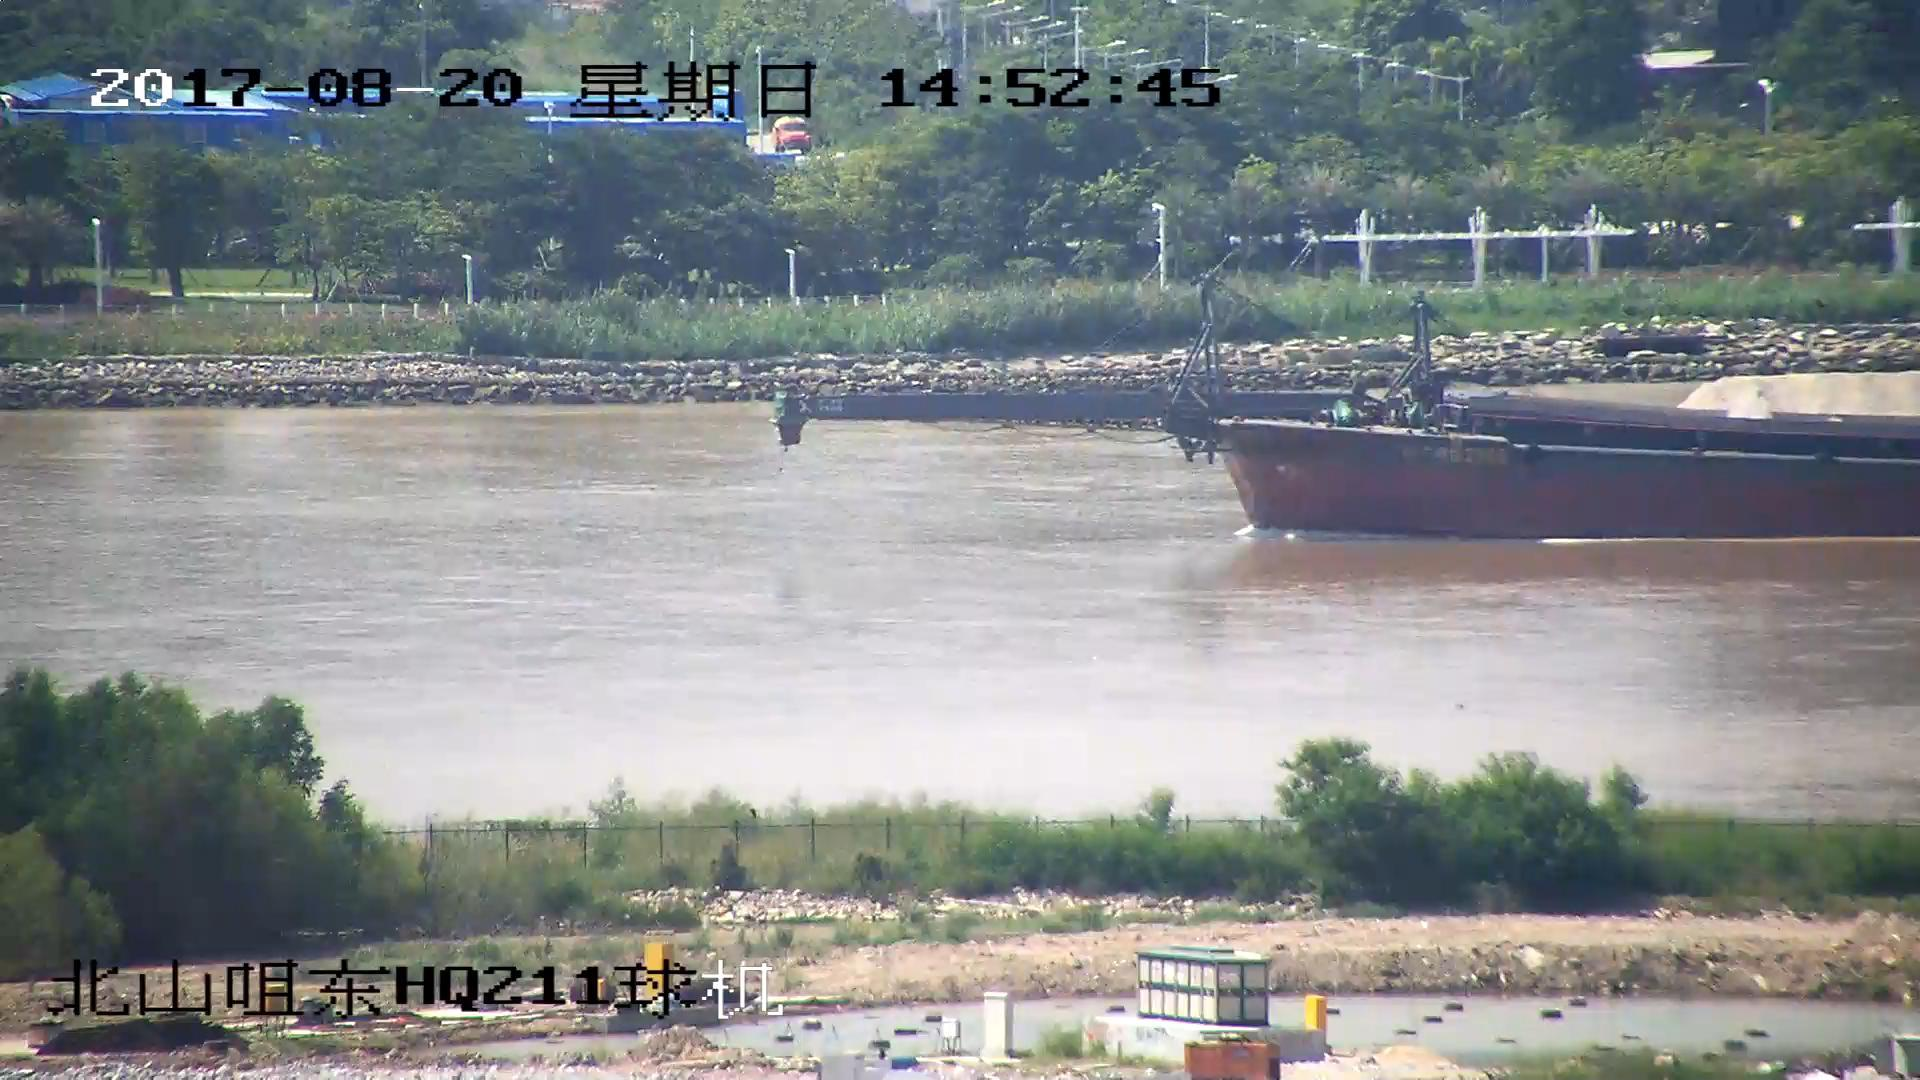Ship: (783, 280, 1920, 537), (1033, 368, 1920, 469)
